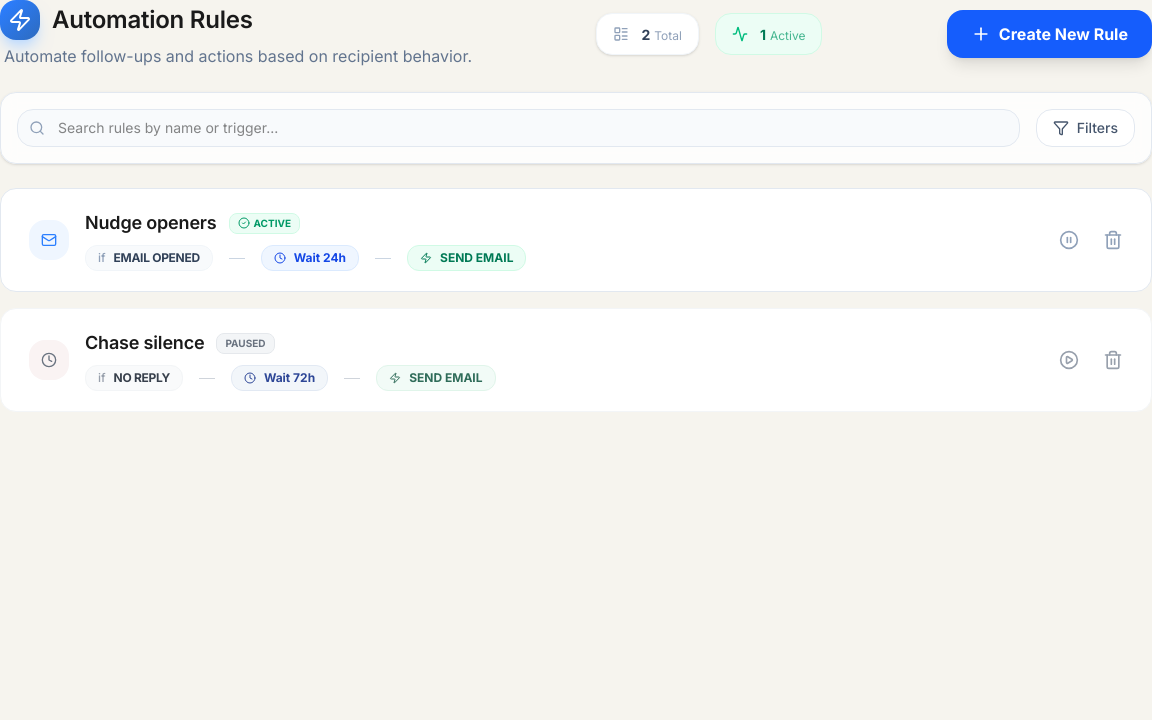
Test: AutomationRules page › opens the create-rule dialog
Check: the heading "Nudge openers" is shown, box left=85, top=209, right=216, bottom=237
Click the button "Create New Rule".
click(1049, 34)  # box left=947, top=10, right=1151, bottom=58
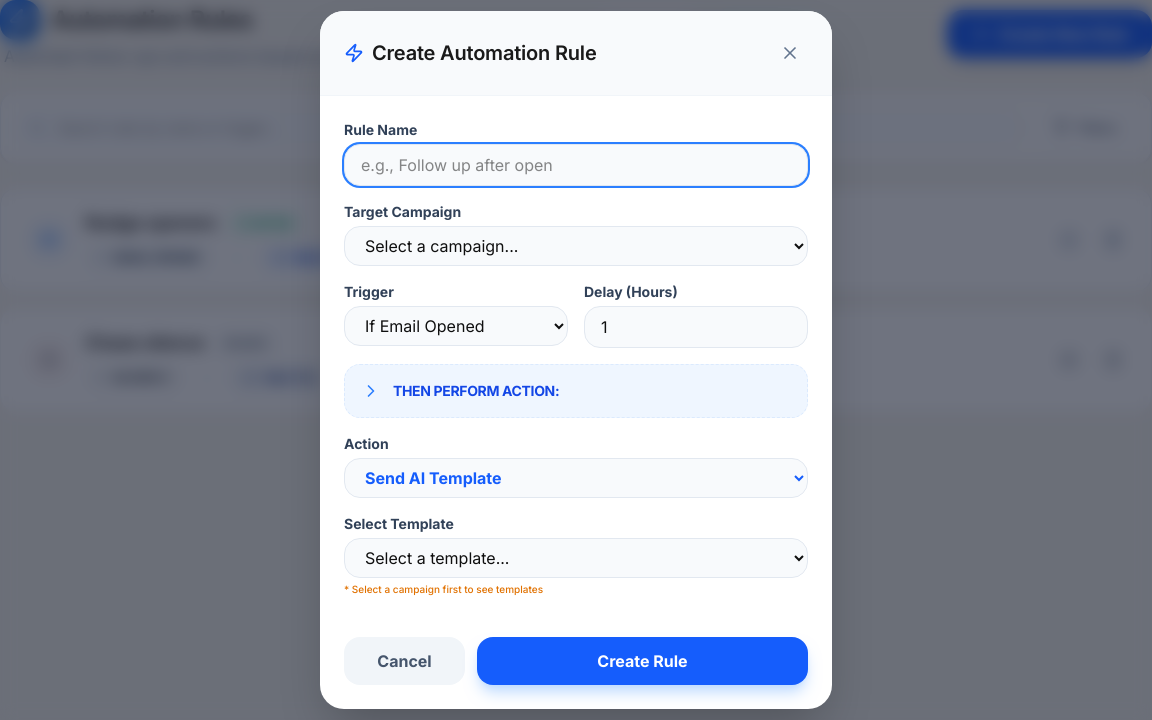
Check: the dialog is shown, box left=320, top=11, right=832, bottom=709
